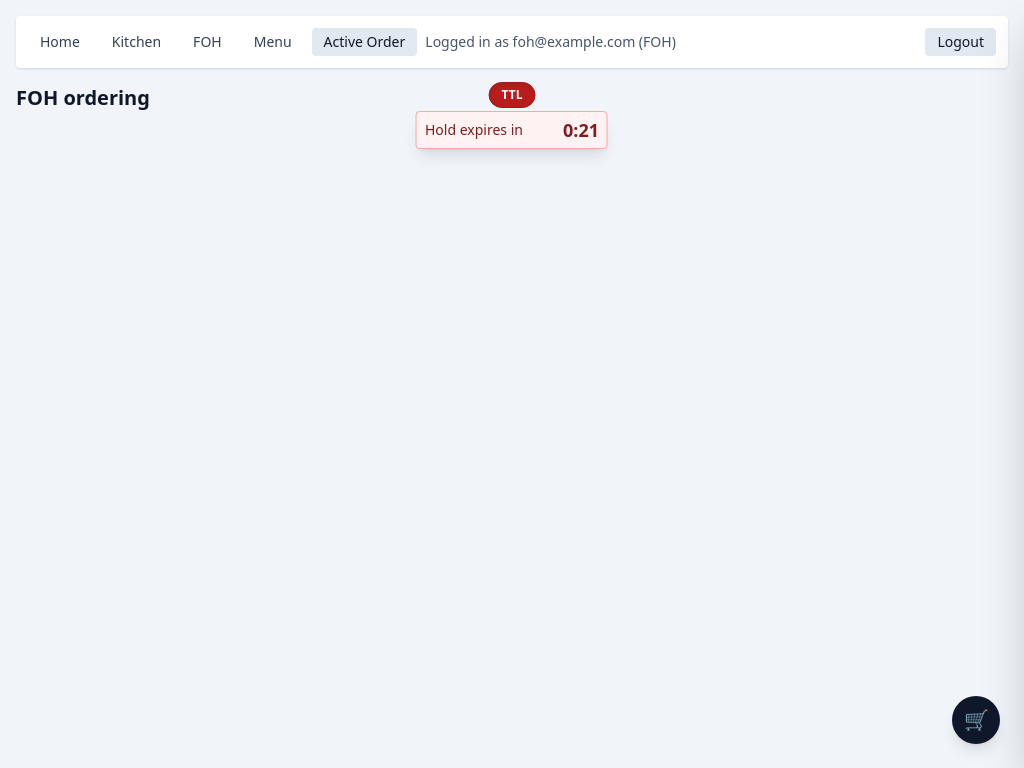
Test: Phase 10 routing and online behavior › keeps pill closed when foh manually closes it under warning threshold
This screenshot has width=1024, height=768.
expect the text "Hold expires in" is shown: met, box left=425, top=120, right=523, bottom=140
Click the button "TTL" at (512, 95), box left=488, top=82, right=535, bottom=108
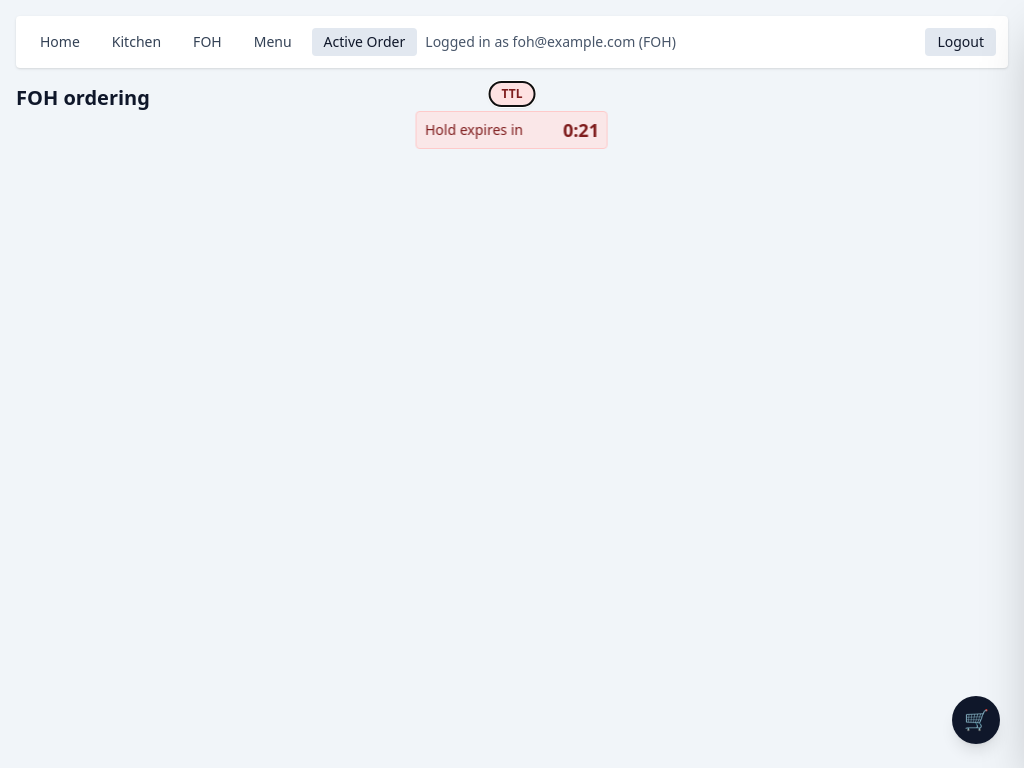
Move the pointer off the button "TTL", box left=488, top=81, right=535, bottom=107
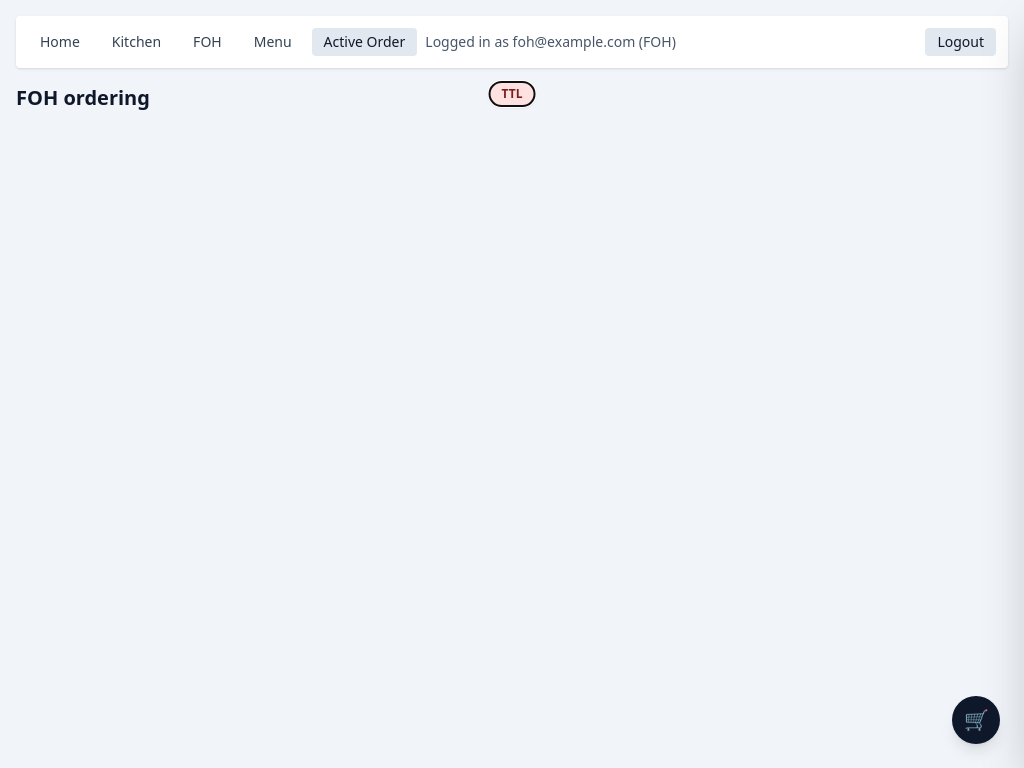
expect the text "Hold expires in" is gone: met
